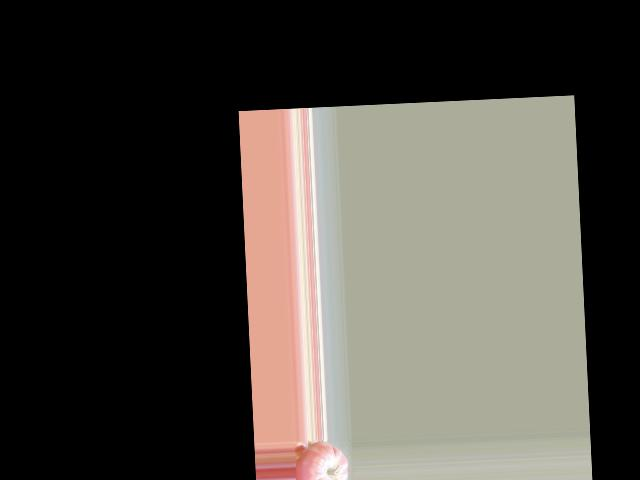tomato: (293, 439, 349, 480)
